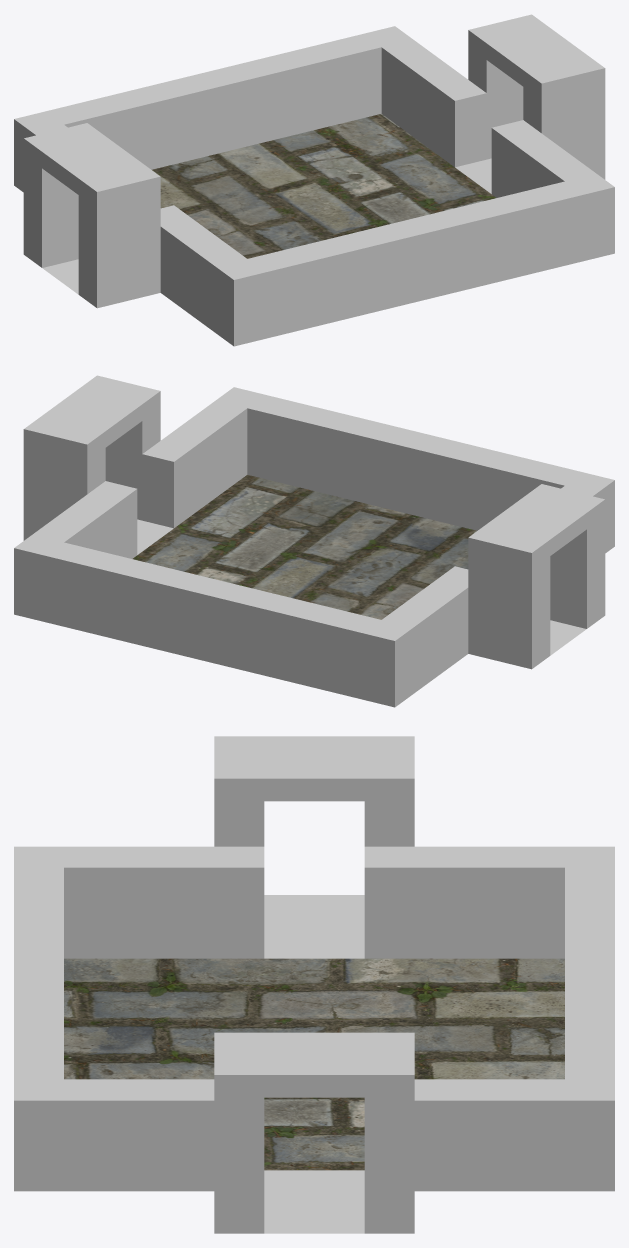
The model's file is 2exitRoomH.fbx.
The picture shows the model from 3 angles, top to bottom: view 1: azimuth 30°, elevation 25°; view 2: azimuth 150°, elevation 25°; view 3: azimuth 270°, elevation 25°; orthographic projection. The views are drawn at different scales.
Visible parts, largest first — view 1: Cube.005, Plane.005, Cube.007, Cube.006, Plane.004, Plane.006; view 2: Cube.005, Plane.005, Cube.007, Cube.006, Plane.004, Plane.006; view 3: Cube.005, Plane.005, Cube.006, Cube.007, Plane.004, Plane.006.
Boxes of the visible parts, x1,y1,x2,y2 form: Cube.005: (14, 26, 614, 346); Plane.005: (152, 114, 495, 258); Cube.007: (23, 123, 160, 308); Cube.006: (468, 14, 605, 179); Plane.004: (455, 158, 491, 193); Plane.006: (42, 259, 78, 294); Cube.005: (14, 387, 614, 707); Plane.005: (133, 475, 476, 619); Cube.007: (468, 484, 605, 669); Cube.006: (23, 375, 160, 540); Plane.004: (137, 519, 173, 554); Plane.006: (550, 620, 586, 655); Cube.005: (14, 846, 614, 1191); Plane.005: (64, 958, 564, 1170); Cube.006: (214, 1032, 414, 1233); Cube.007: (214, 736, 414, 846); Plane.004: (264, 1170, 364, 1233); Plane.006: (264, 895, 364, 958).
Size of the model in its own units: 320 by 70 by 240.
